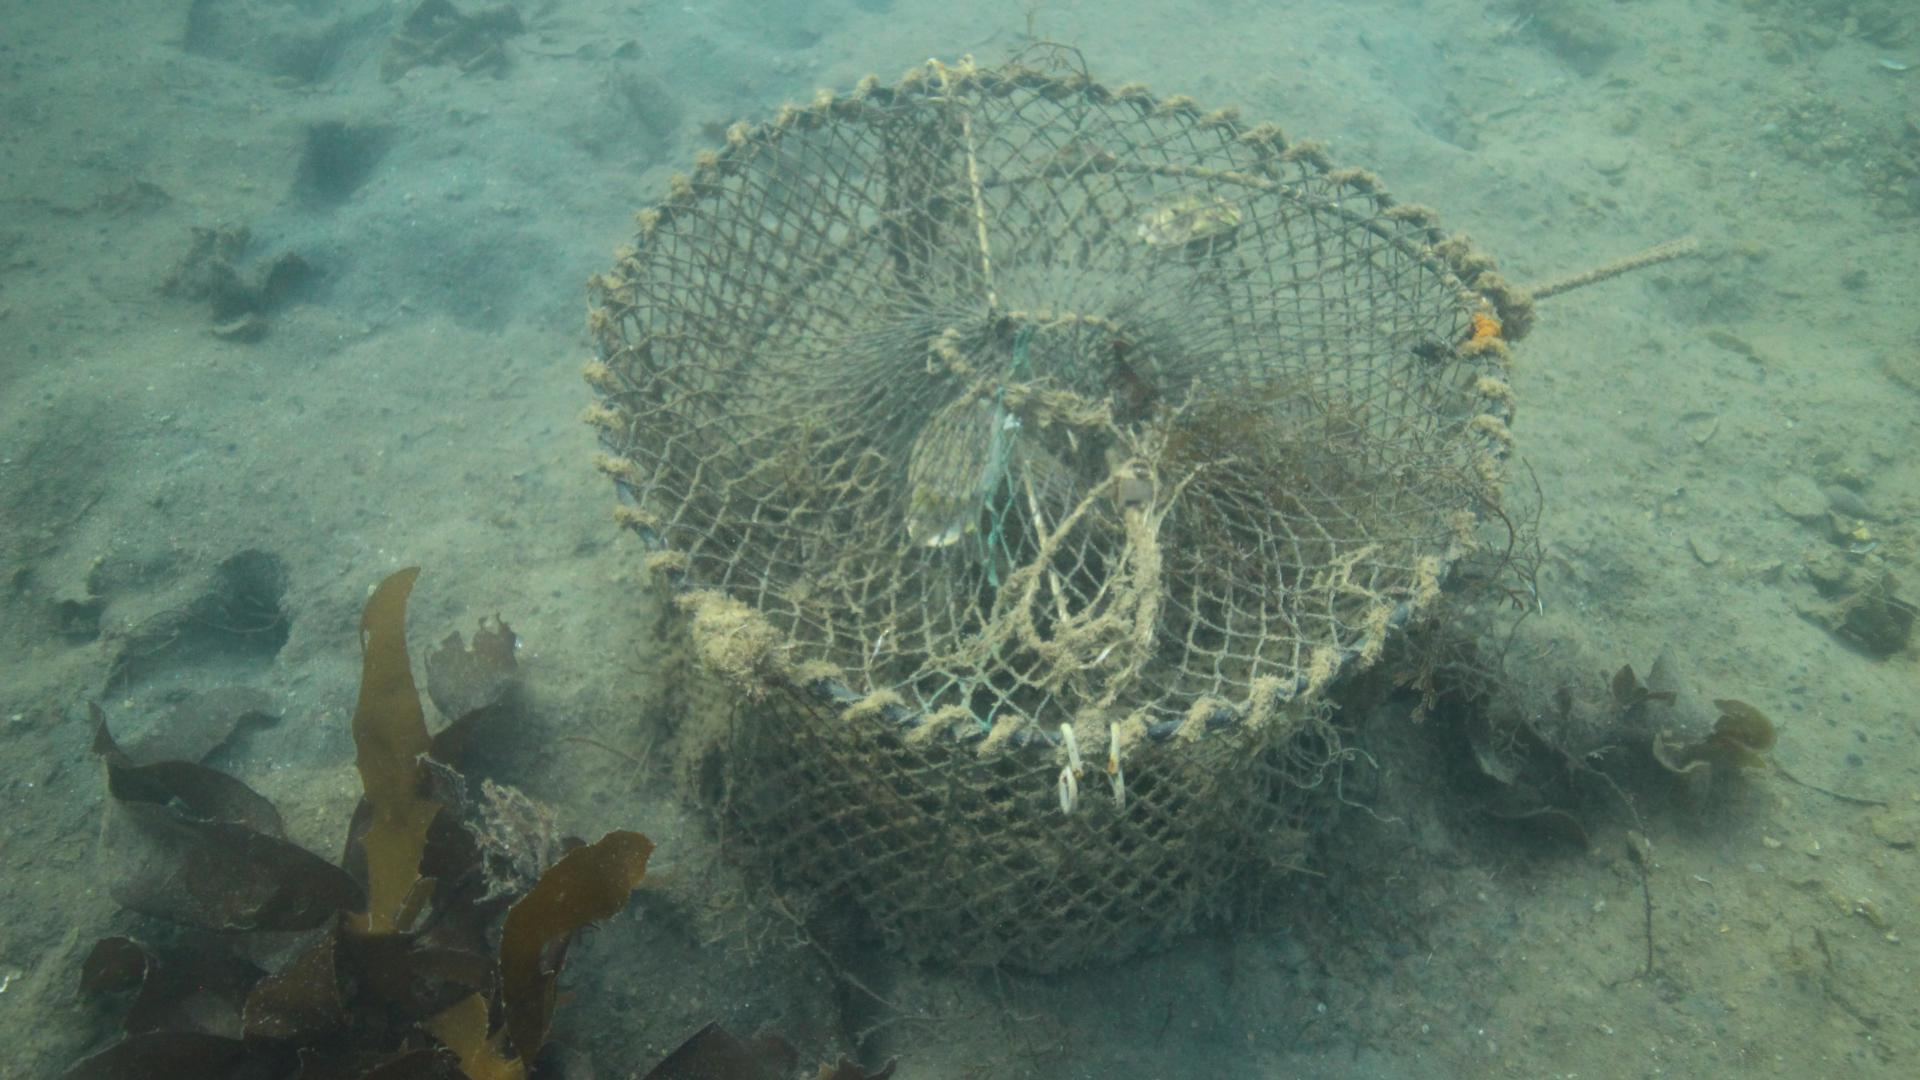circular fish trap: (585, 61, 1518, 976)
rope: (1532, 235, 1691, 303)
